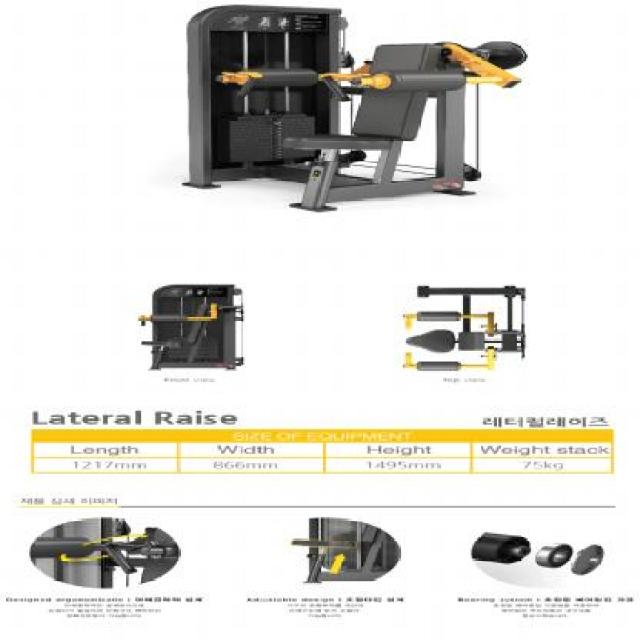lateral raises machine: (185, 6, 529, 212), (134, 282, 252, 372)
